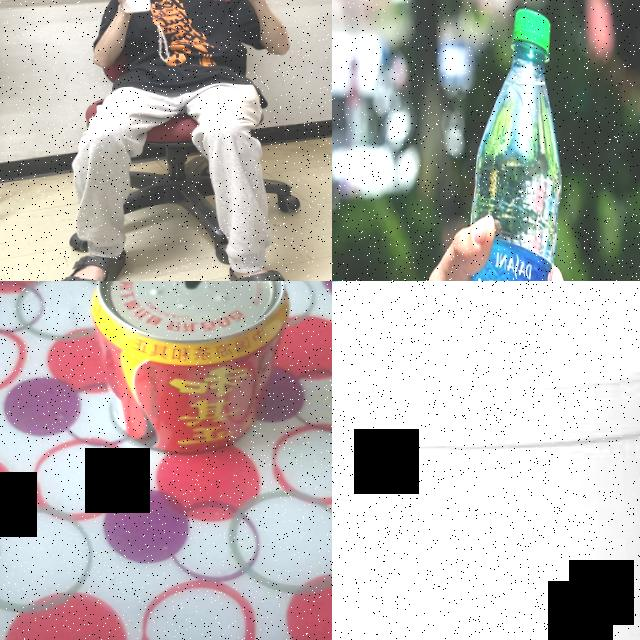bottle: (428, 5, 574, 281)
can: (89, 281, 299, 459)
cup: (332, 281, 640, 640)
